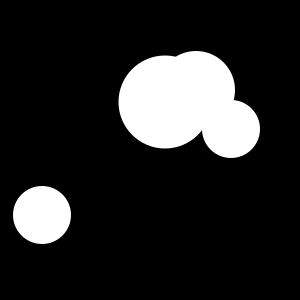rectangle: (118, 56, 212, 148), (157, 51, 235, 129), (13, 186, 71, 244), (202, 100, 260, 158)
